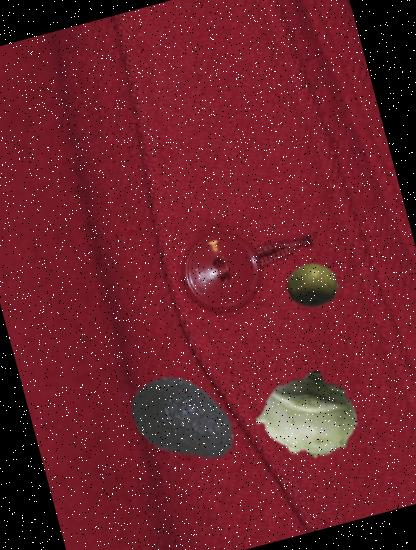Avocado: (118, 353, 252, 486)
Kohlrabi: (245, 352, 370, 476)
Pomelo: (281, 253, 345, 317)
